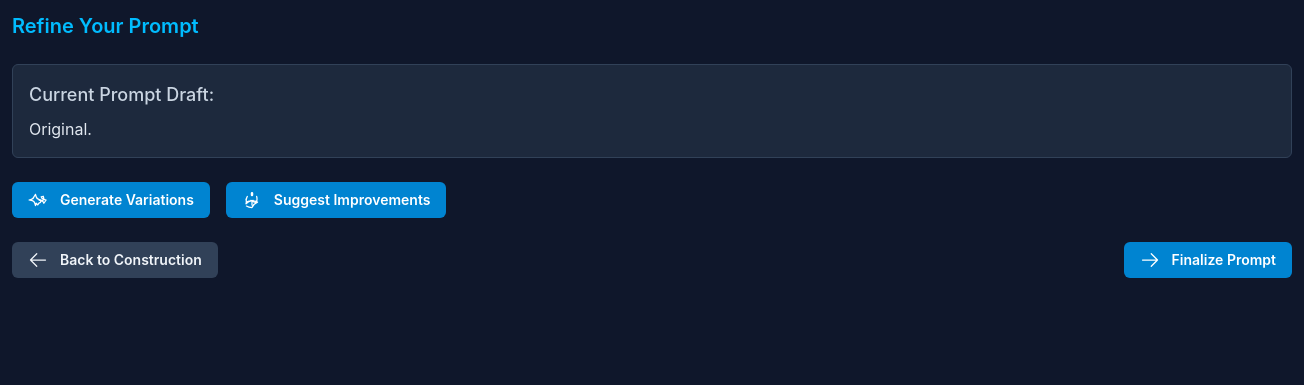
Test: AIRefinementStage — variations › shows an error alert when variation generation fails
Click the button "Generate Variations".
click(111, 200)  # box [12, 182, 210, 218]
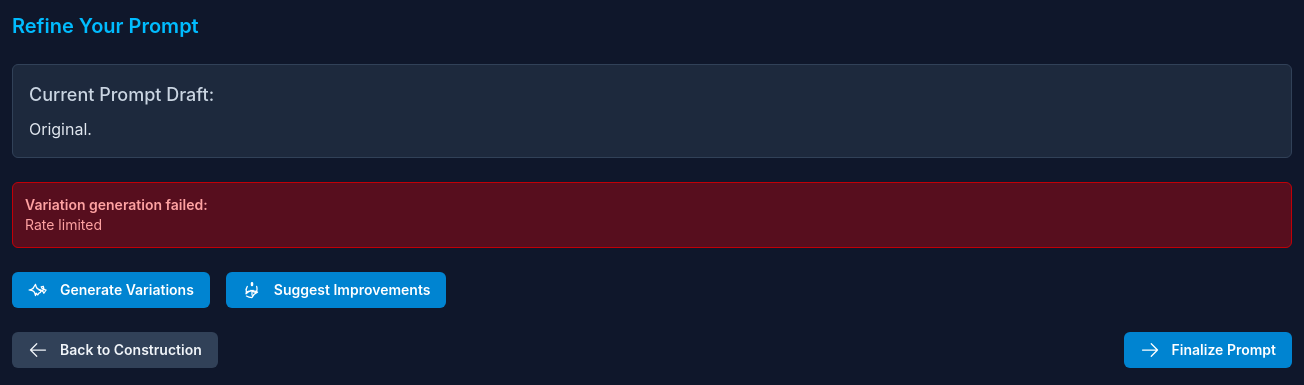
Check: the message shows "Variation generation failed", box [25, 196, 208, 213]
